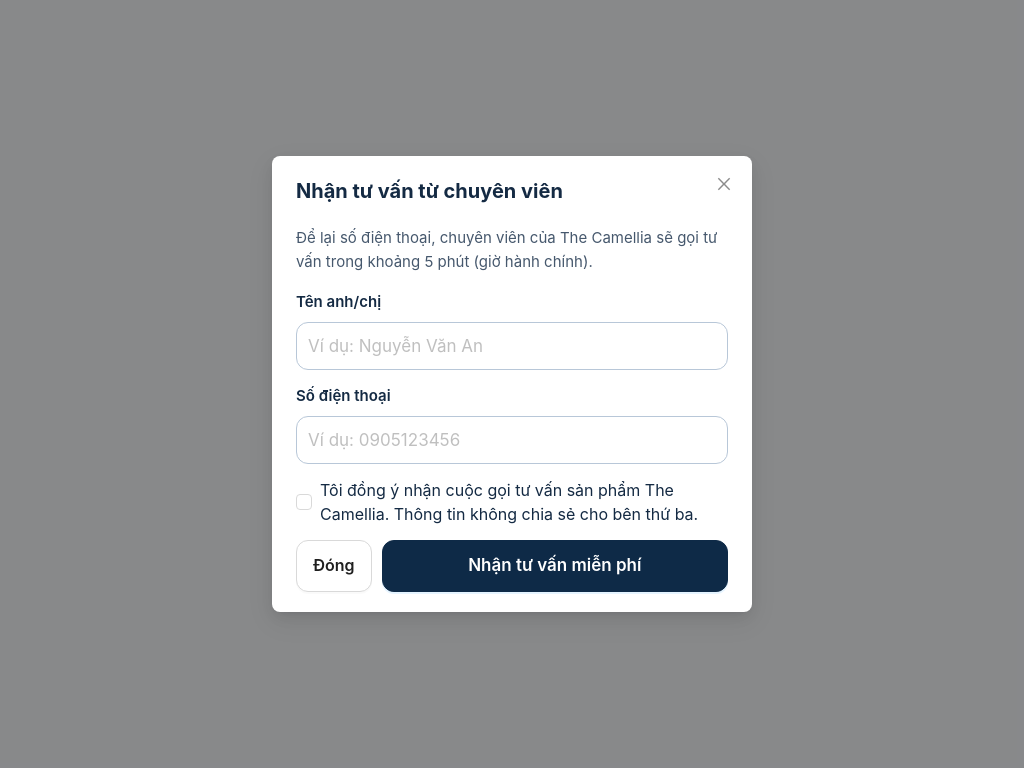
Test: LeadForm ISSUE-7 submission path › creates exactly one lead per valid submit even under a racing double-click
Type "Trần Thị Bích" into the field with placeholder "Ví dụ: Nguyễn Văn An".
click(512, 346); type("Trần Thị Bích")  # box x1=296 y1=322 x2=728 y2=370
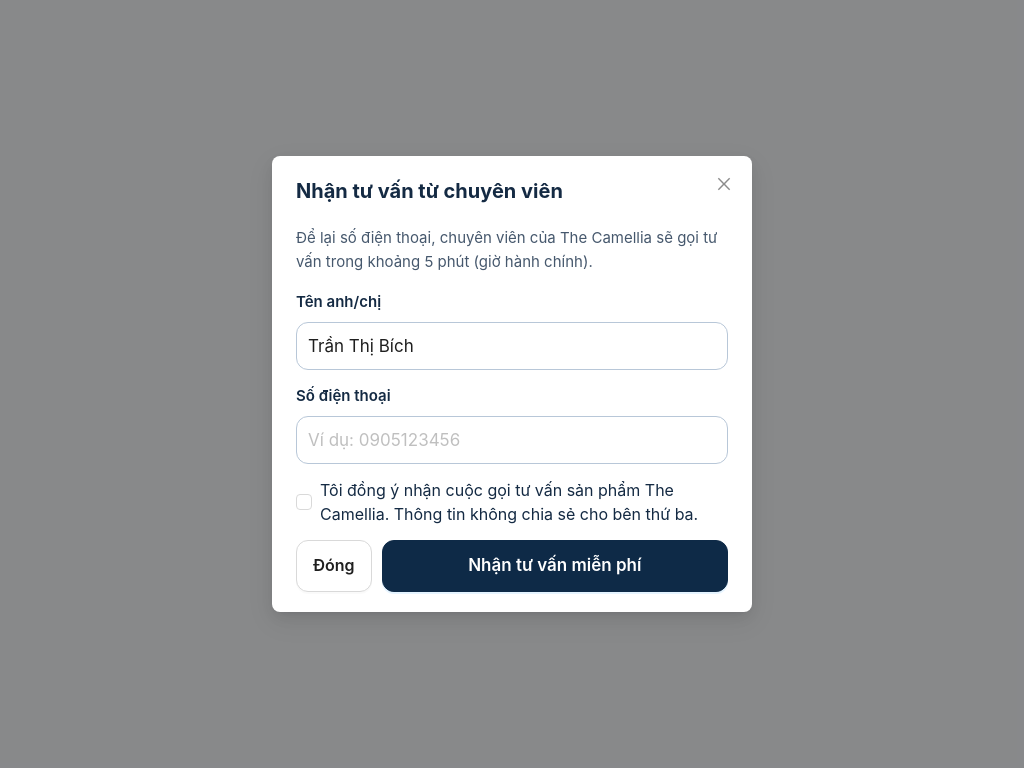
Type "0905 111 222" into the field with placeholder "Ví dụ: 0905123456".
click(512, 440); type("0905 111 222")  # box x1=296 y1=416 x2=728 y2=464
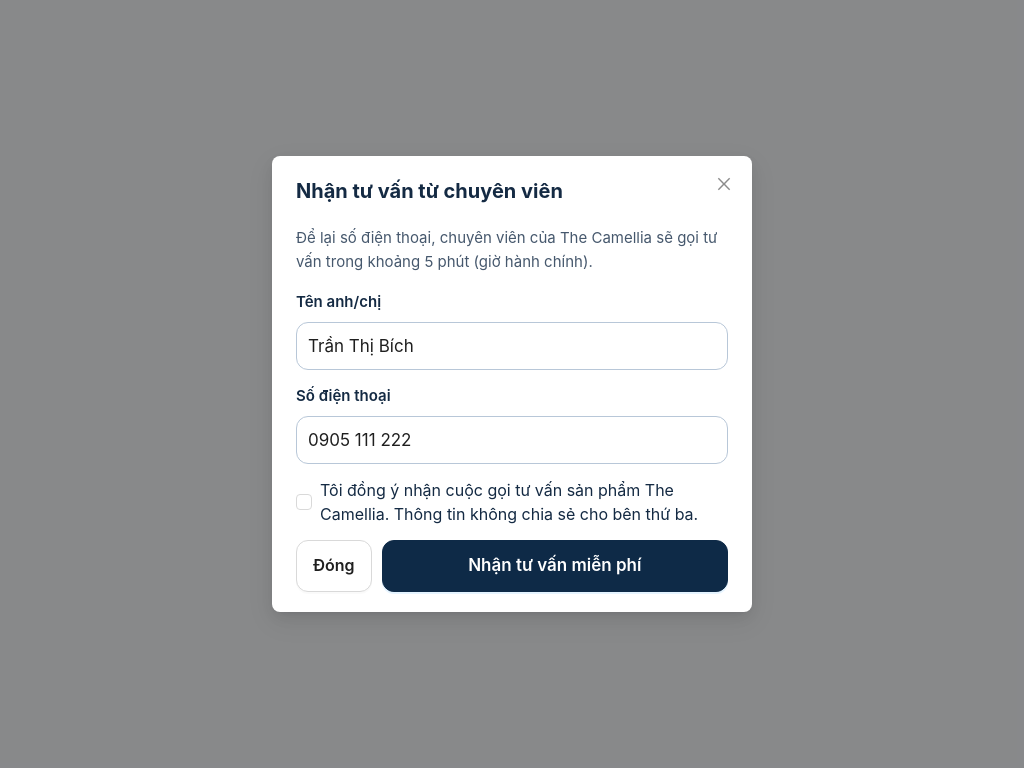
Click the checkbox.
click(512, 502)  # box x1=296 y1=478 x2=728 y2=526
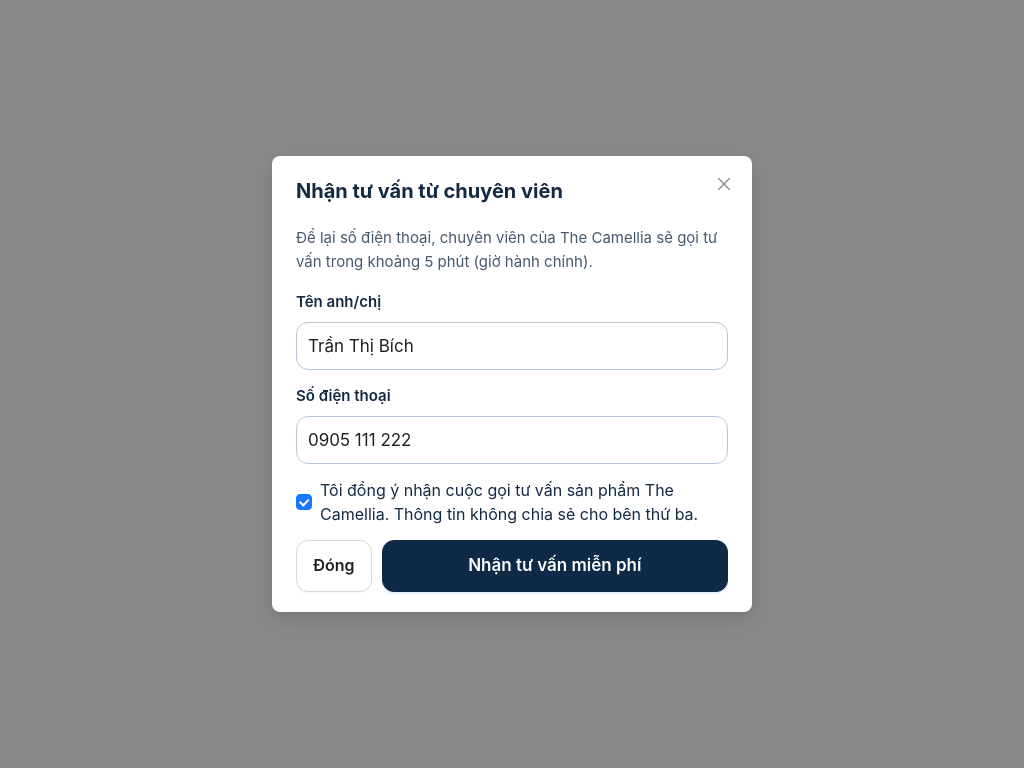
Click the button "Nhận tư vấn miễn phí".
click(555, 566)  # box x1=382 y1=540 x2=728 y2=592
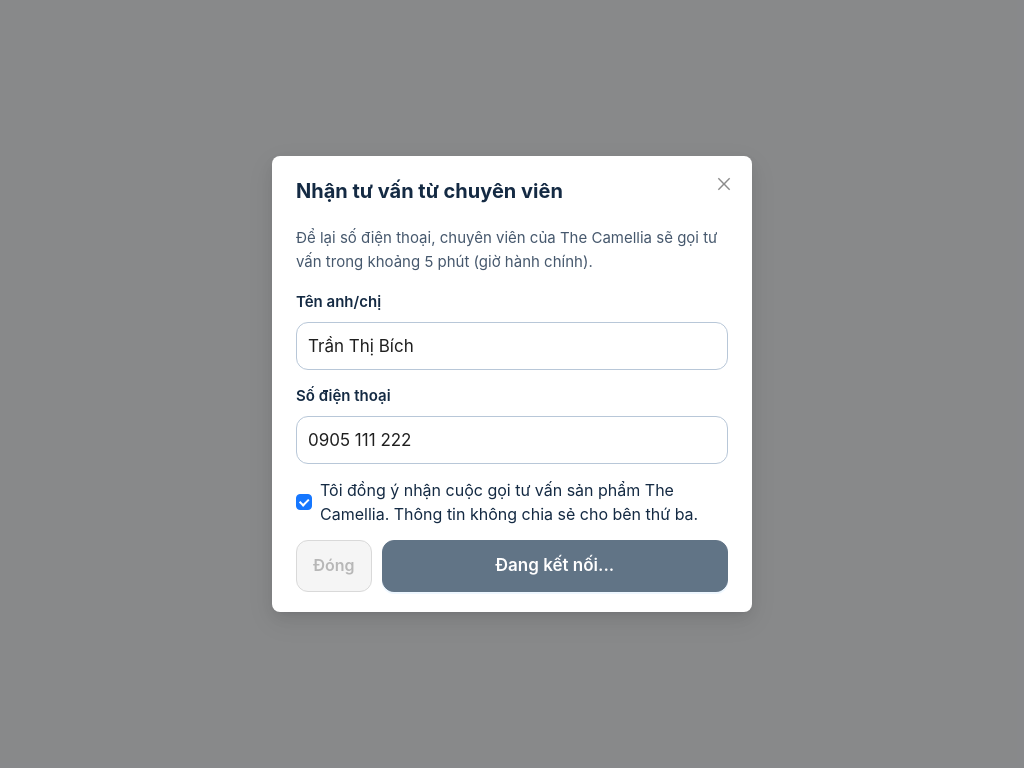
Click the button "Đang kết nối...".
click(555, 566)  # box x1=382 y1=540 x2=728 y2=592
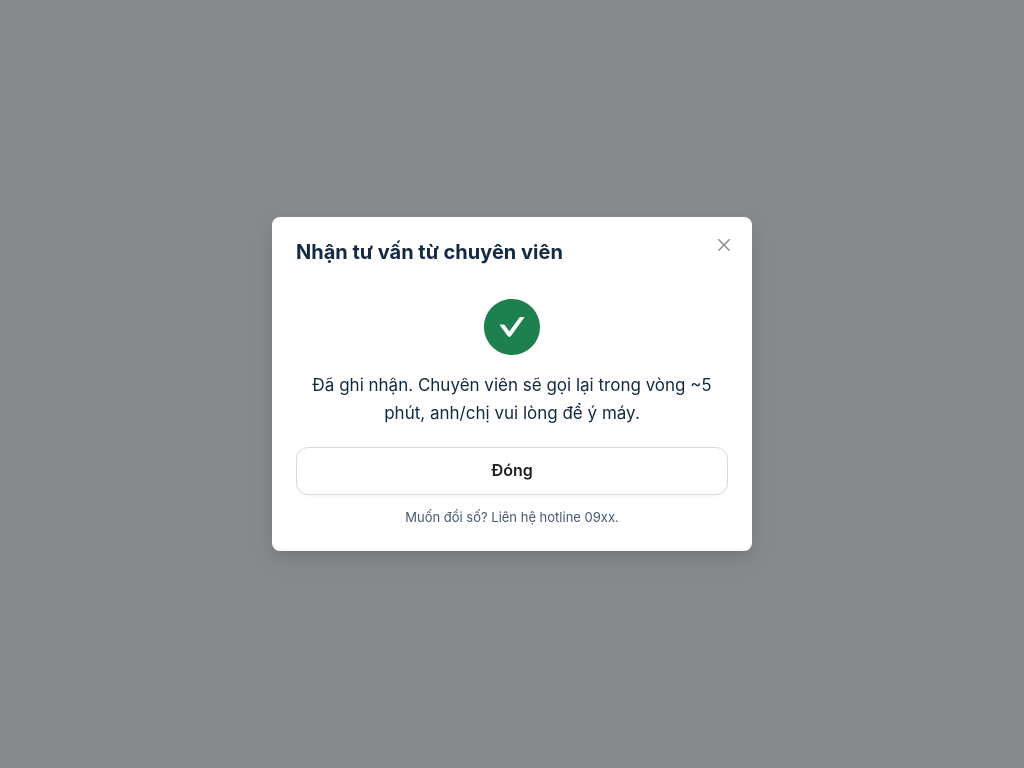
Now the text "Chuyên viên sẽ gọi lại" is shown, box x1=312 y1=375 x2=702 y2=395
